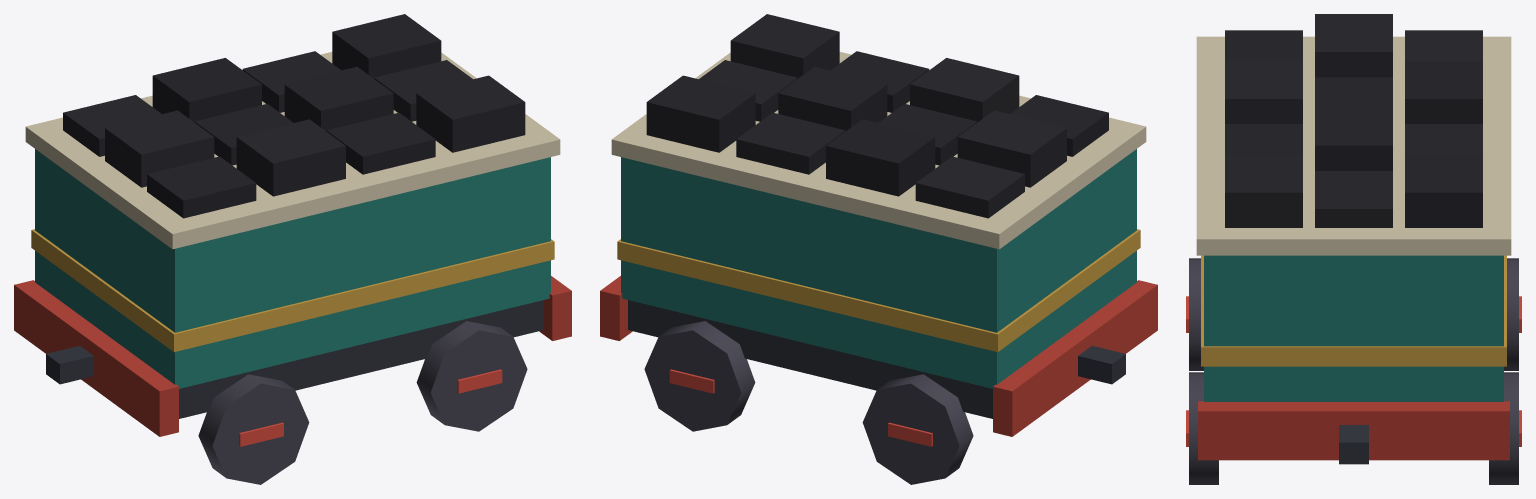
Rendered from car_01.glb.
The picture shows the model from 3 angles, left to right: view 1: azimuth 30°, elevation 25°; view 2: azimuth 150°, elevation 25°; view 3: azimuth 270°, elevation 25°; orthographic projection. The views are drawn at different scales.
Visible parts, largest first — view 1: car_01, Wheel1, Wheel3; view 2: car_01, Wheel0, Wheel2; view 3: car_01, Wheel2, Wheel3, Wheel0, Wheel1.
Boxes of the visible parts, bbox=[...] form: car_01: bbox=[14, 14, 571, 436]; Wheel1: bbox=[198, 374, 309, 484]; Wheel3: bbox=[416, 321, 527, 431]; car_01: bbox=[600, 14, 1157, 436]; Wheel0: bbox=[862, 374, 973, 484]; Wheel2: bbox=[644, 321, 755, 431]; car_01: bbox=[1196, 14, 1511, 464]; Wheel2: bbox=[1489, 372, 1521, 484]; Wheel3: bbox=[1186, 372, 1218, 484]; Wheel0: bbox=[1504, 258, 1521, 370]; Wheel1: bbox=[1186, 258, 1203, 370].
Size of the model in its own units: 1.98 by 1.19 by 1.12.
